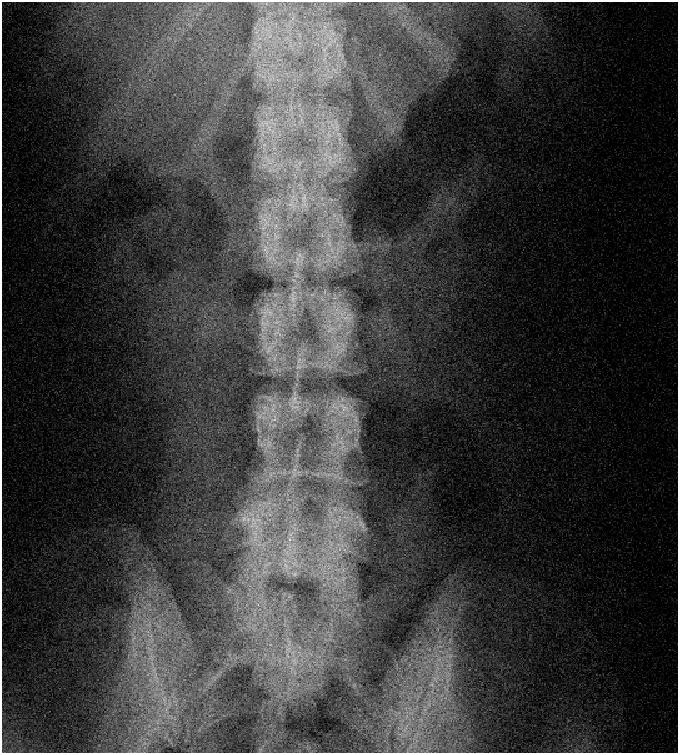lumbar scoliosis: (233, 192, 371, 618)
